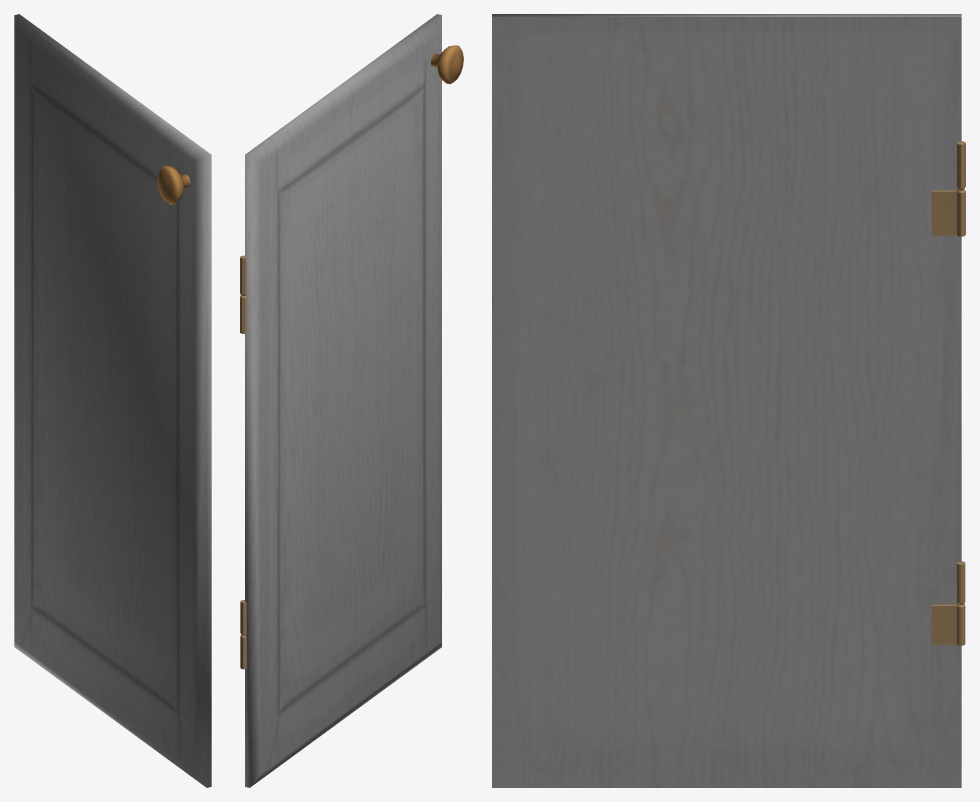
File: SM_KitchenSet_A1_DoorA3.fbx
3 views of the same model, side by side, from view 1: azimuth 30°, elevation 25°; view 2: azimuth 150°, elevation 25°; view 3: azimuth 270°, elevation 25° (orthographic). The views are drawn at different scales.
Visible parts, largest first — view 1: SM_KitchenSet_A1_DoorA3; view 2: SM_KitchenSet_A1_DoorA3; view 3: SM_KitchenSet_A1_DoorA3.
Boxes of the visible parts, <box> form: SM_KitchenSet_A1_DoorA3: <box>14,14,211,787</box>; SM_KitchenSet_A1_DoorA3: <box>240,14,463,787</box>; SM_KitchenSet_A1_DoorA3: <box>492,14,965,787</box>.
Bounding box in the file's own units: 4.84 × 40.11 × 72.04.
2 materials, 2 textured.
